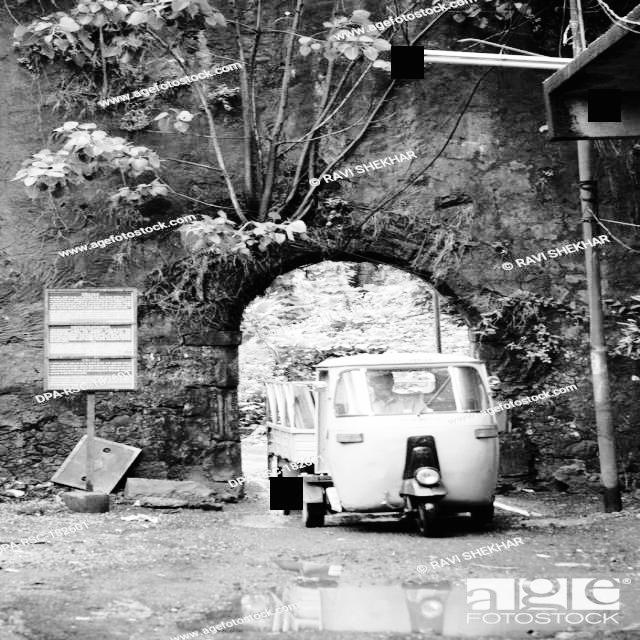Auto-Rickshaw: (262, 345, 528, 536)
